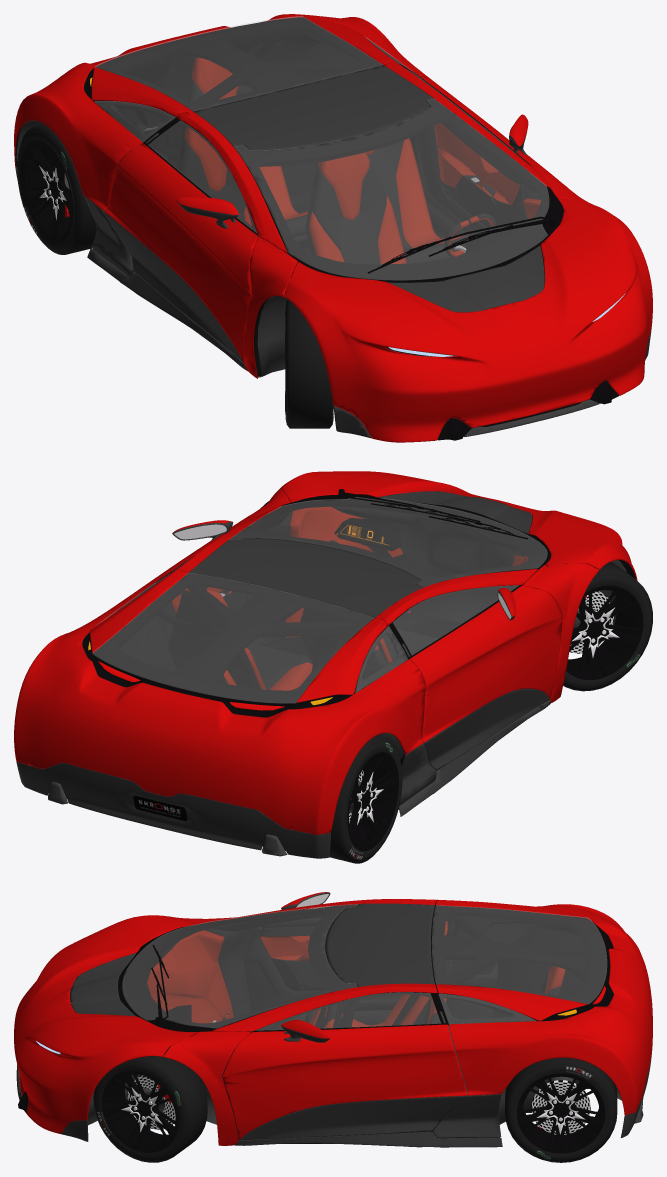
The model's file is car.glb.
The picture shows the model from 3 angles, top to bottom: view 1: azimuth 30°, elevation 25°; view 2: azimuth 150°, elevation 25°; view 3: azimuth 270°, elevation 25°; orthographic projection. The views are drawn at different scales.
Visible parts, largest first — view 1: BodyHood, BodyWindshield, BodyRearwindow, BodyDoorRColor1, BodyRearPanelsColor1, BodyRoofPanel, BodyWindshieldGasket, InteriorSeatsColor1, InteriorSeatsColor2, BodyPillars, InteriorPillar, InteriorRearHatch (+20 smaller); view 2: BodyRearPanelsColor1, BodyRearwindow, BodyWindshield, BodyDoorRColor1, BodyPanelsColor2, BodyRoofPanel, BodyHood, InteriorDashMid, InteriorRearHatch, BodyPillars, InteriorPillar, BodyWindshieldGasket (+22 smaller); view 3: BodyRearPanelsColor1, BodyWindshield, BodyDoorLColor1, BodyHood, BodyRearwindow, BodyRoofPanel, BodyPillars, BodyWindshieldGasket, BodyDoorLColor2, BodyPanelsColor2, InteriorDashSides, WheelFrontL (+23 smaller).
Boxes of the visible parts, box(x1,y1,x2,y2) form: BodyHood: box(283, 198, 652, 442); BodyWindshield: box(234, 98, 549, 280); BodyRearwindow: box(95, 16, 382, 110); BodyDoorRColor1: box(104, 143, 257, 362); BodyRearPanelsColor1: box(14, 14, 428, 210); BodyRoofPanel: box(193, 65, 432, 150); BodyWindshieldGasket: box(234, 99, 563, 282); InteriorSeatsColor1: box(185, 57, 467, 264); InteriorSeatsColor2: box(180, 78, 467, 264); BodyPillars: box(176, 61, 598, 378); InteriorPillar: box(158, 37, 434, 168); InteriorRearHatch: box(93, 17, 383, 117); BodyRearPanelsColor1: box(14, 569, 425, 834); BodyRearwindow: box(92, 573, 373, 703); BodyWindshield: box(229, 497, 547, 587); BodyDoorRColor1: box(409, 585, 562, 742); BodyPanelsColor2: box(16, 700, 550, 858); BodyRoofPanel: box(189, 537, 422, 617); BodyHood: box(279, 471, 637, 580); InteriorDashMid: box(331, 503, 528, 623); InteriorRearHatch: box(93, 573, 386, 707); BodyPillars: box(175, 489, 599, 702); InteriorPillar: box(174, 574, 417, 682); BodyWindshieldGasket: box(230, 497, 550, 587); BodyRearPanelsColor1: box(436, 899, 652, 1115); BodyWindshield: box(122, 904, 357, 1028); BodyDoorLColor1: box(222, 1024, 467, 1139); BodyHood: box(14, 915, 196, 1133); BodyRearwindow: box(432, 905, 606, 1003); BodyRoofPanel: box(326, 903, 434, 986); BodyPillars: box(163, 899, 437, 1145); BodyWindshieldGasket: box(118, 905, 357, 1032); BodyDoorLColor2: box(240, 1096, 467, 1140); BodyPanelsColor2: box(16, 1050, 652, 1147); InteriorDashSides: box(147, 930, 233, 1023); WheelFrontL: box(93, 1054, 207, 1162).
Bounding box in the file's own units: 2.54 × 1.15 × 4.36.
Materials: 23 (6 with a texture image).
